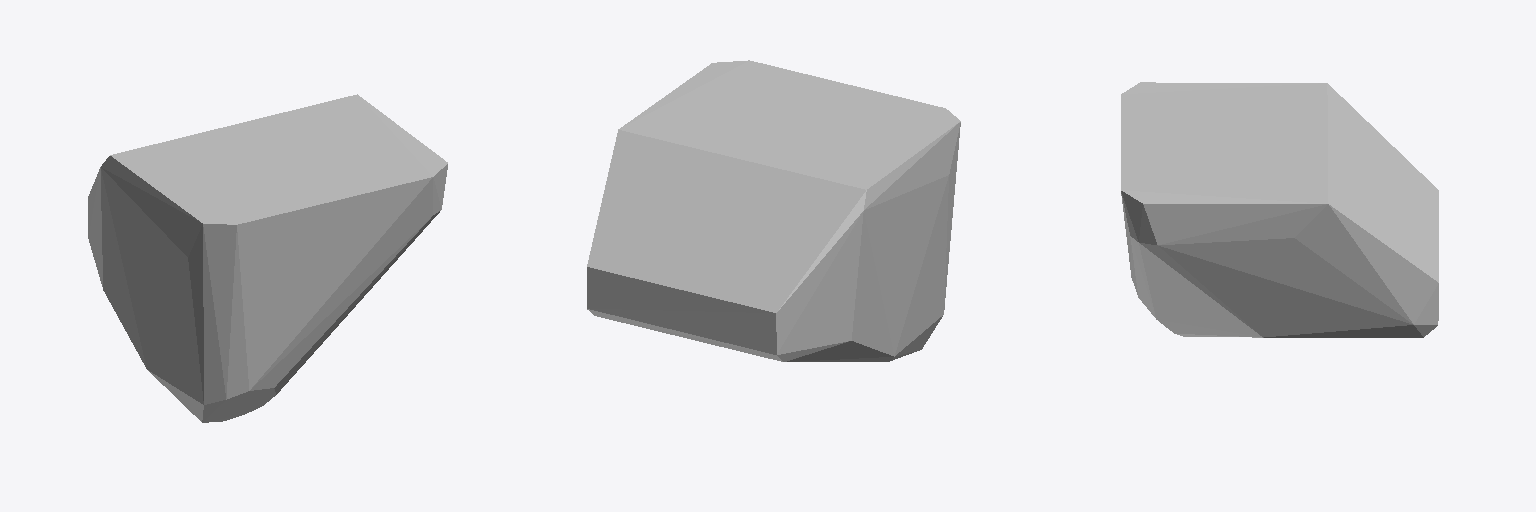
File: l_distal_collision.obj
3 renders of one model, left to right at view 1: azimuth 30°, elevation 25°; view 2: azimuth 150°, elevation 25°; view 3: azimuth 270°, elevation 25°, orthographic.
Bounding box in the file's own units: 0.0393 × 0.0339 × 0.0431.